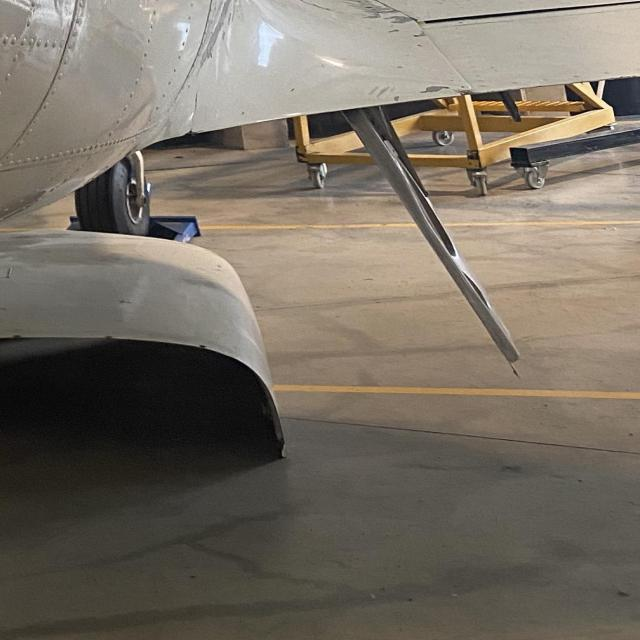Crack: (186, 80, 206, 138), (458, 90, 473, 95)
Paint-off: (236, 105, 251, 123), (416, 86, 453, 93), (391, 94, 405, 103), (417, 28, 426, 39)
